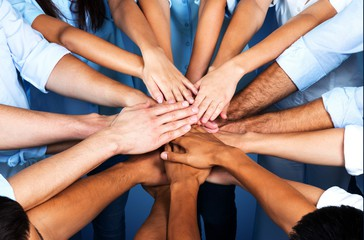finger: (158, 114, 203, 135), (151, 125, 191, 148), (158, 106, 204, 125), (155, 100, 188, 117), (184, 75, 204, 94), (178, 81, 195, 102), (201, 102, 218, 119), (162, 87, 177, 103), (209, 105, 224, 120), (172, 83, 184, 101)
